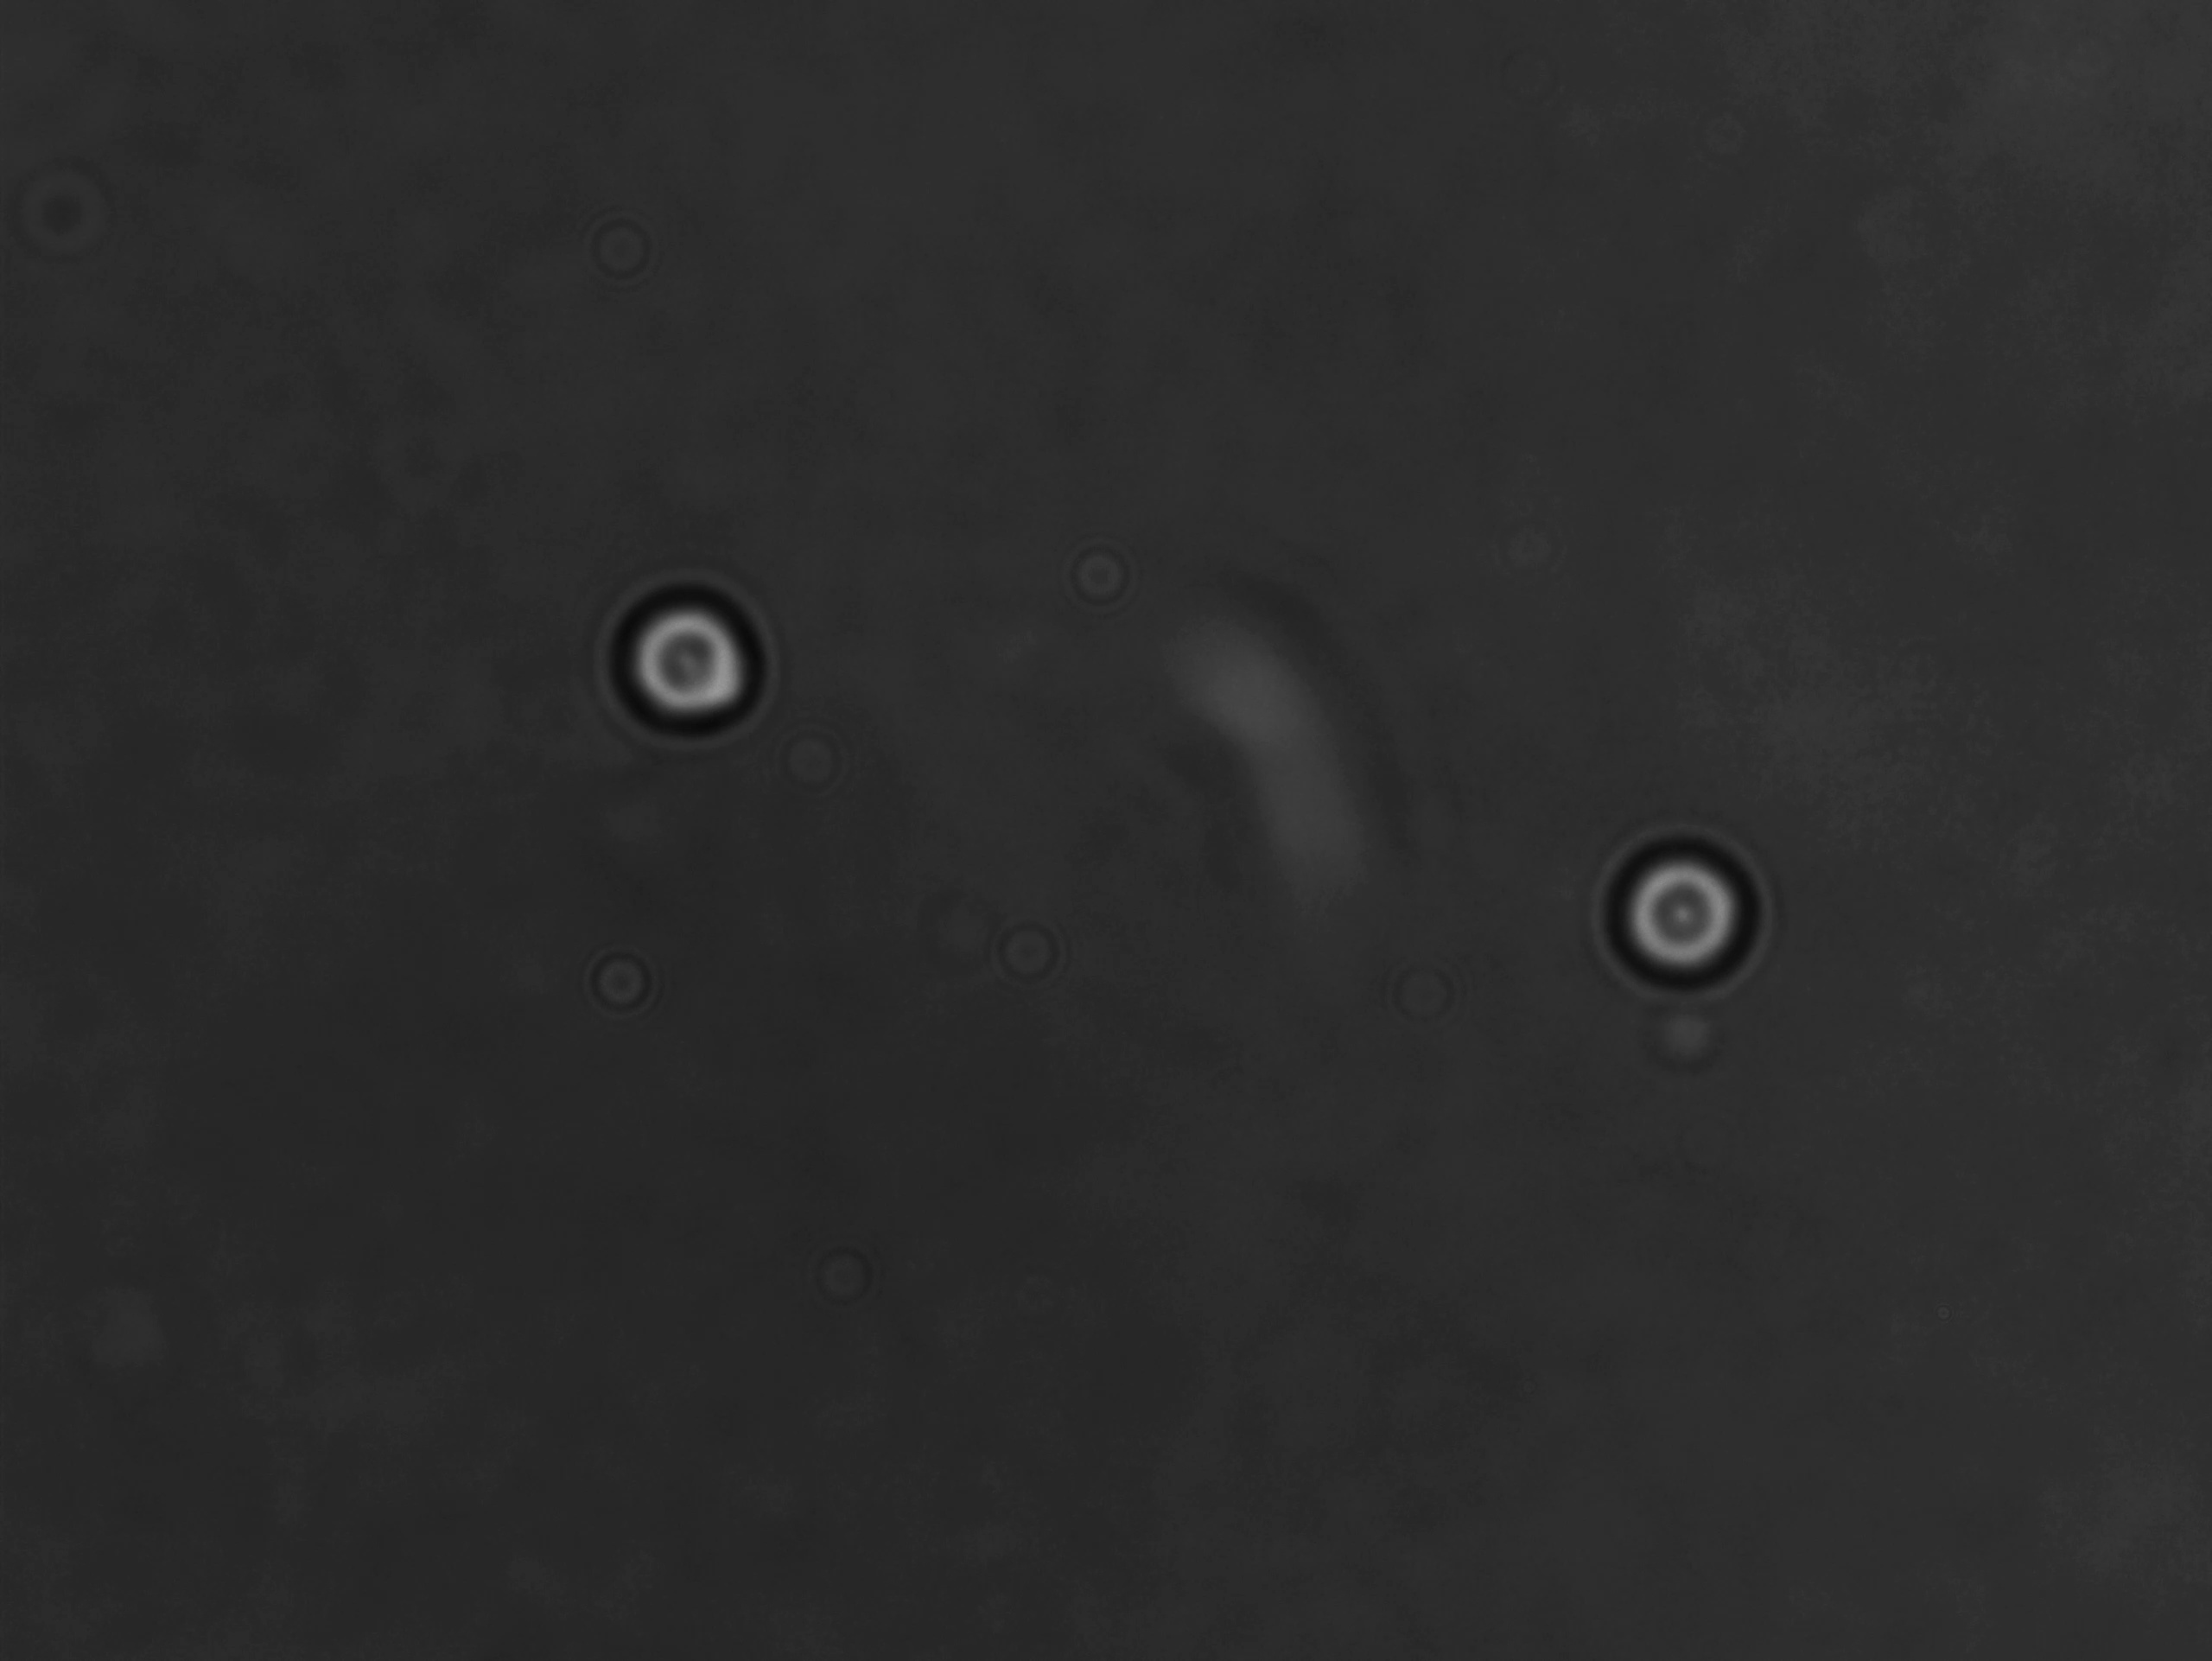depth:40: (616, 564, 787, 759), (1591, 829, 1783, 1000)
